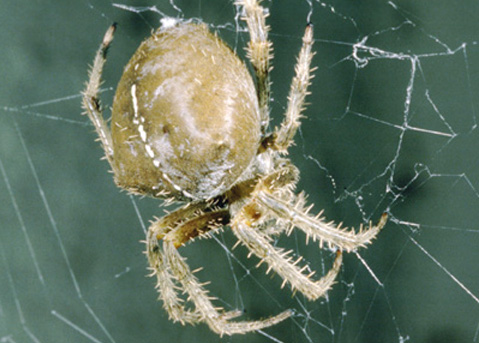spider: (72, 1, 397, 335)
